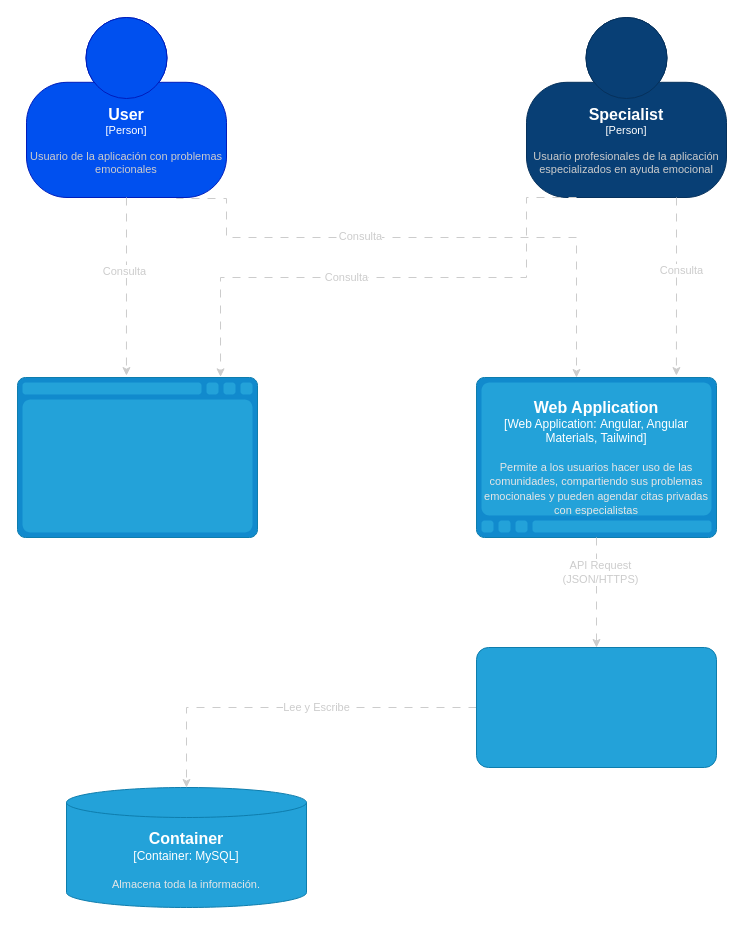
Image size: 744x925. Some labels were removed from this diagram. Here are the shapes that lost their labels. From the top down, the box of each, then its label:
(16, 376, 258, 538): Landing Page [Landing Page: React JS and Tailwind CSS]
(476, 646, 716, 768): API REST [Container: SpringBoot]
